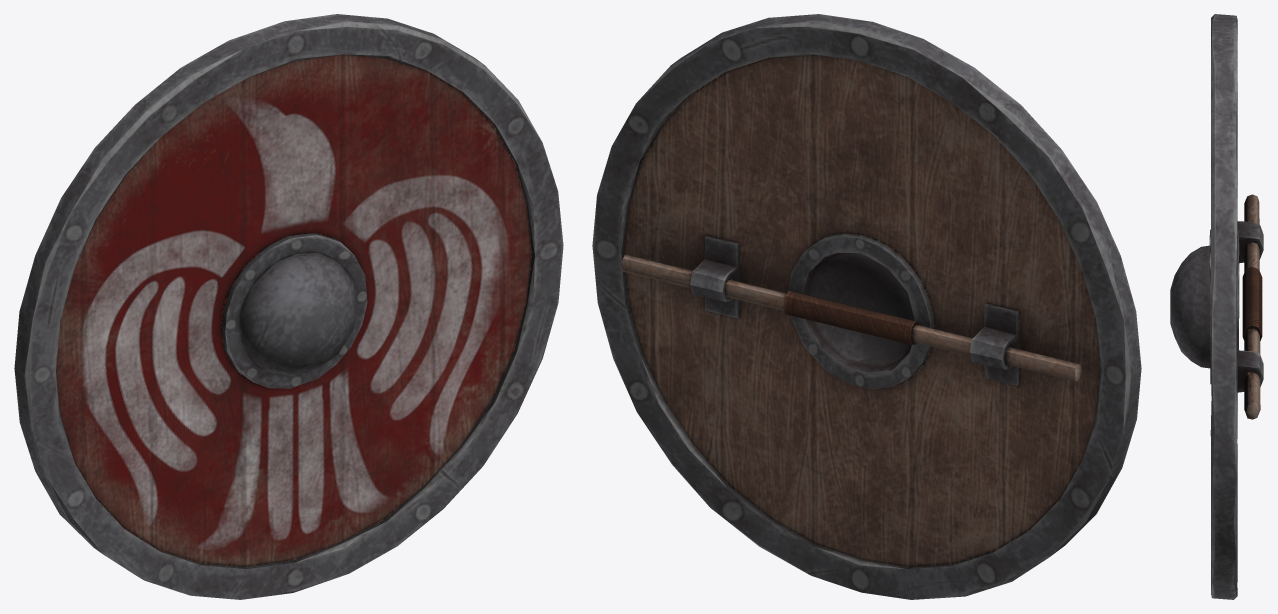
The model's file is Schild_LOD2.dae.
3 views of the same model, side by side, from view 1: azimuth 30°, elevation 25°; view 2: azimuth 150°, elevation 25°; view 3: azimuth 270°, elevation 25° (orthographic). The views are drawn at different scales.
Parts seen in each view (by area): view 1: Schild_LOD2; view 2: Schild_LOD2; view 3: Schild_LOD2.
Part boxes in pixels (<box>): Schild_LOD2: <box>14,14,563,599</box>; Schild_LOD2: <box>592,14,1141,599</box>; Schild_LOD2: <box>1170,14,1263,599</box>.
Size of the model in its own units: 0.85 by 0.1356 by 0.85.
Materials: 1 (1 with a texture image).
